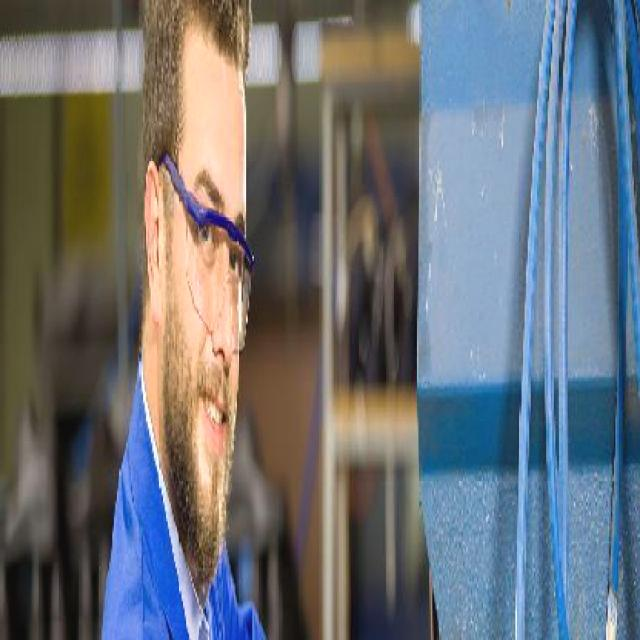face_nomask: (175, 199, 258, 463)
glasses: (158, 123, 255, 377)
head_nohelmet: (143, 2, 260, 109)
